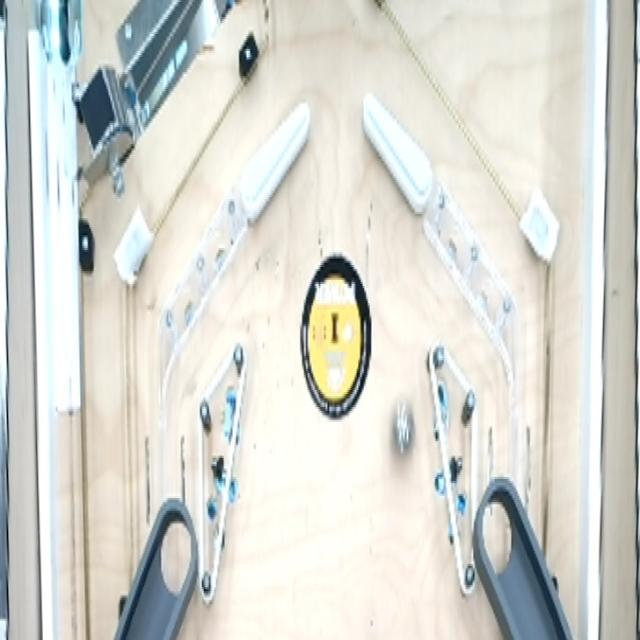ball: (390, 388, 417, 460)
flipper-left: (358, 81, 436, 223)
flipper-right: (235, 94, 313, 238)
